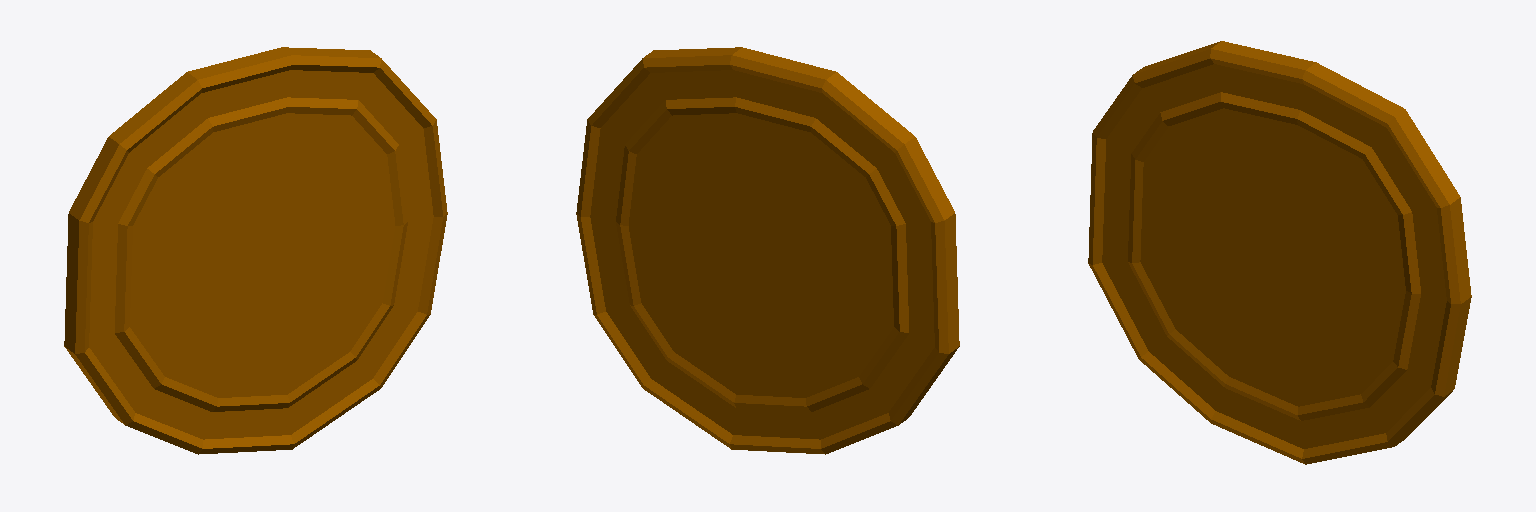
File: dubloon_with_normal.obj
3 views of the same model, side by side, from view 1: azimuth 30°, elevation 25°; view 2: azimuth 150°, elevation 25°; view 3: azimuth 330°, elevation 25° (orthographic).
Parts seen in each view (by area): view 1: Cylinder001; view 2: Cylinder001; view 3: Cylinder001.
Part boxes in pixels (x1,y1,x2,y2): Cylinder001: (64,47,447,454); Cylinder001: (576,47,959,454); Cylinder001: (1088,41,1471,464).
Size of the model in its own units: 21.4 by 21.66 by 1.61.